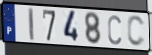4: (62, 9, 82, 45)
7: (42, 9, 57, 43)
8: (84, 11, 102, 47)
C: (126, 14, 146, 48), (107, 14, 123, 46)
I: (27, 7, 36, 42)
